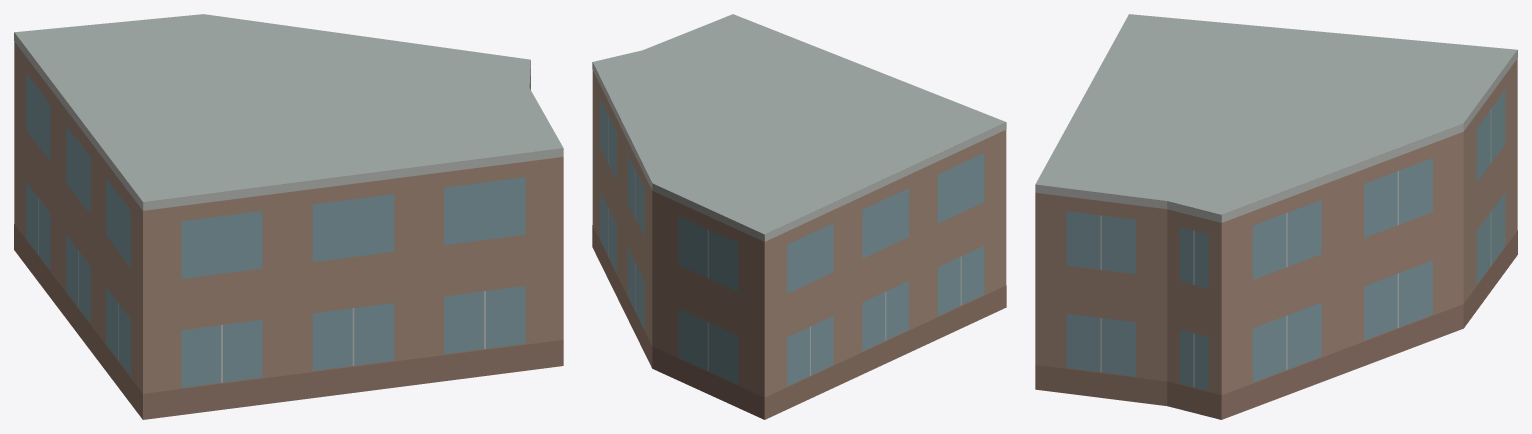
File: survey-upis-32779616.glb
The picture shows the model from 3 angles, left to right: view 1: azimuth 30°, elevation 25°; view 2: azimuth 150°, elevation 25°; view 3: azimuth 270°, elevation 25°; orthographic projection. The views are drawn at different scales.
Parts seen in each view (by area): view 1: survey-upis-32779616.tmp; view 2: survey-upis-32779616.tmp; view 3: survey-upis-32779616.tmp.
Boxes of the visible parts, left/top/right/bottom form: survey-upis-32779616.tmp: left=14, top=14, right=563, bottom=419; survey-upis-32779616.tmp: left=592, top=14, right=1006, bottom=419; survey-upis-32779616.tmp: left=1035, top=14, right=1517, bottom=419.
Size of the model in its own units: 12.82 by 6.1 by 13.02.
